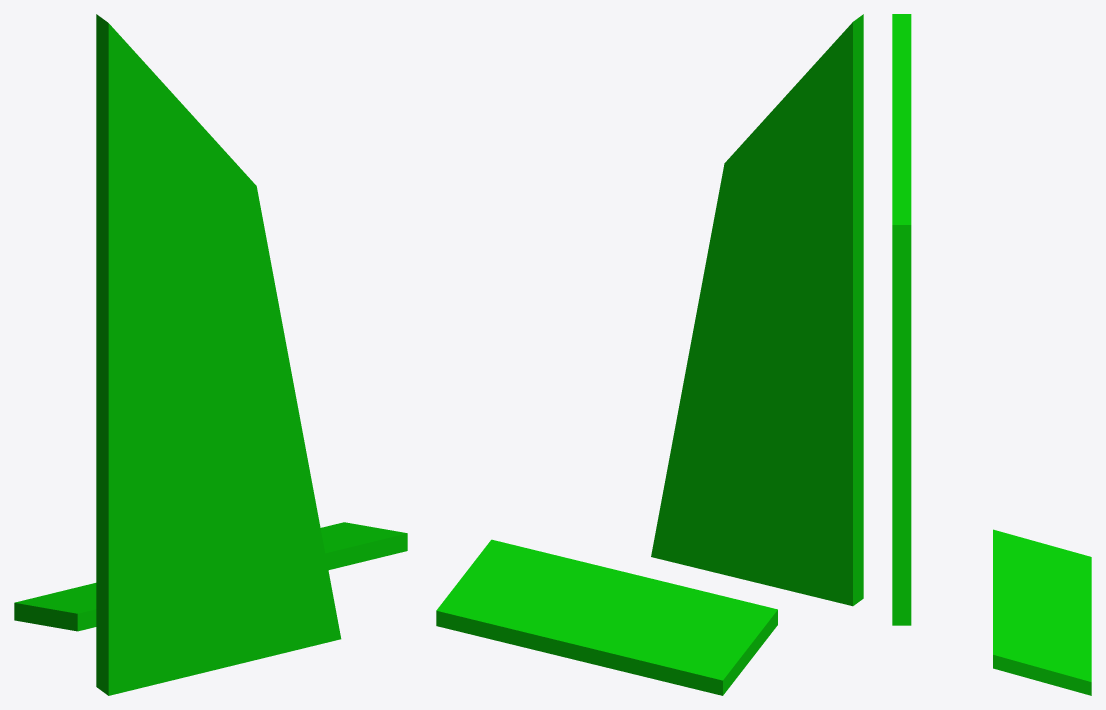
The model's file is door_leaf_broken.glb.
3 views of the same model, side by side, from view 1: azimuth 30°, elevation 25°; view 2: azimuth 150°, elevation 25°; view 3: azimuth 270°, elevation 25° (orthographic). The views are drawn at different scales.
Visible parts, largest first — view 1: door_leaf_broken; view 2: door_leaf_broken; view 3: door_leaf_broken.
Boxes of the visible parts, x1=… form: door_leaf_broken: x1=14, y1=14, x2=407, y2=695; door_leaf_broken: x1=436, y1=14, x2=863, y2=695; door_leaf_broken: x1=892, y1=14, x2=1091, y2=695.
Size of the model in its own units: 0.86 by 1.58 by 0.525.
